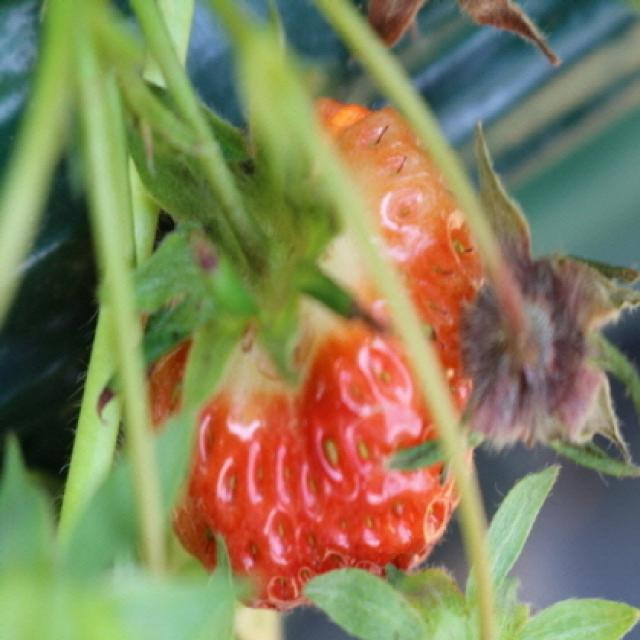Gray Mold: (457, 122, 638, 464)
